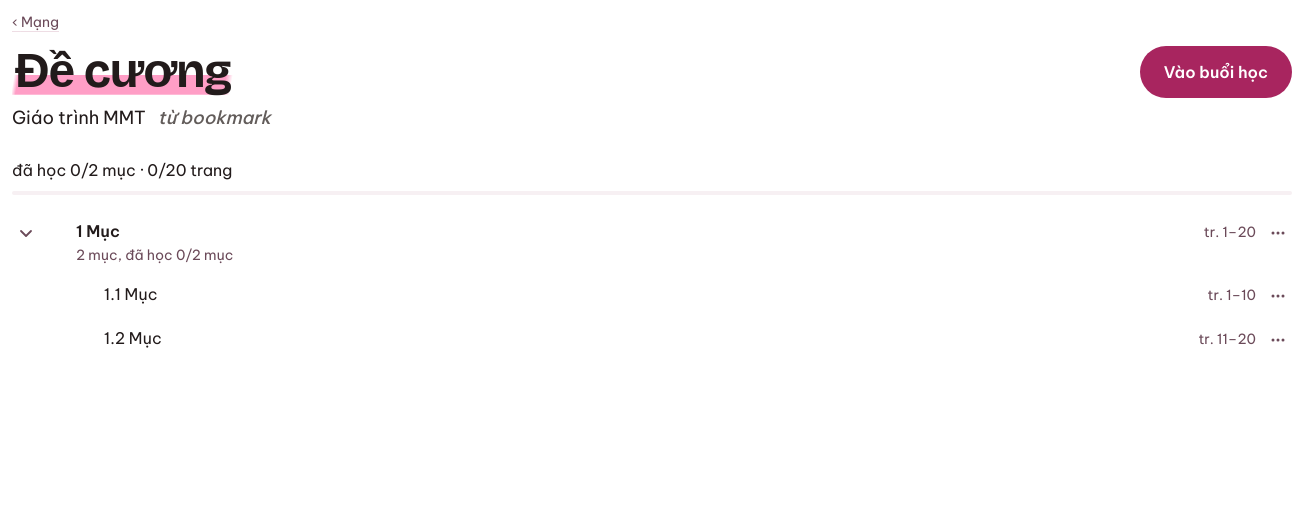
Test: SyllabusLive (US-13) › US-13 AC4: a range core-api refuses is undone with a visible message
Press Enter in the list item "1.1 Mục tr. 1–10", box [12, 274, 1292, 318]
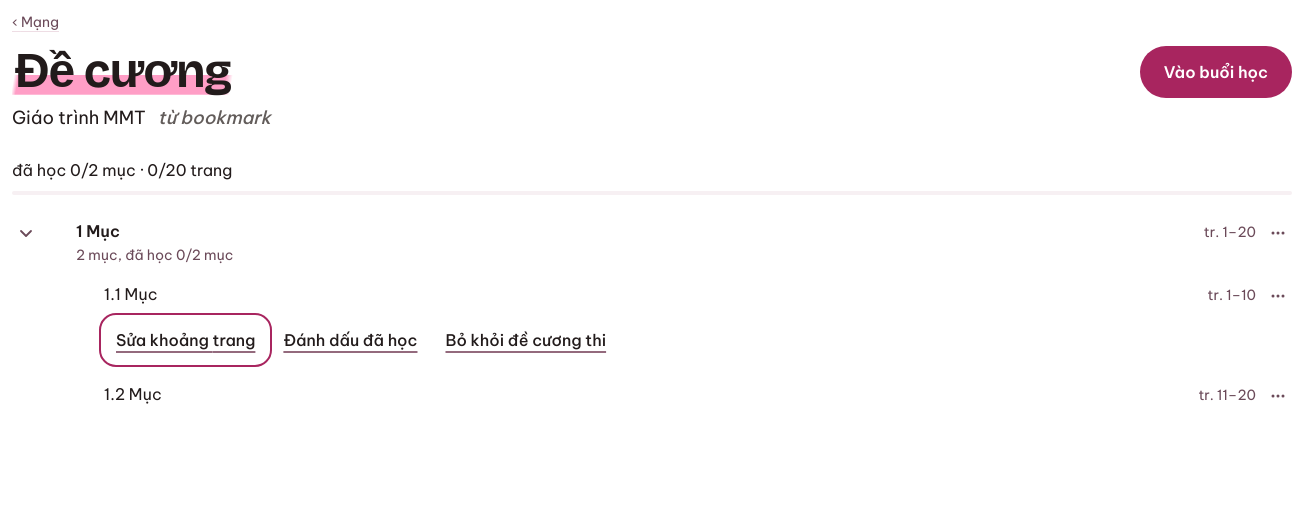
Click the button "Sửa khoảng trang" at [186, 340], box [104, 318, 267, 362]
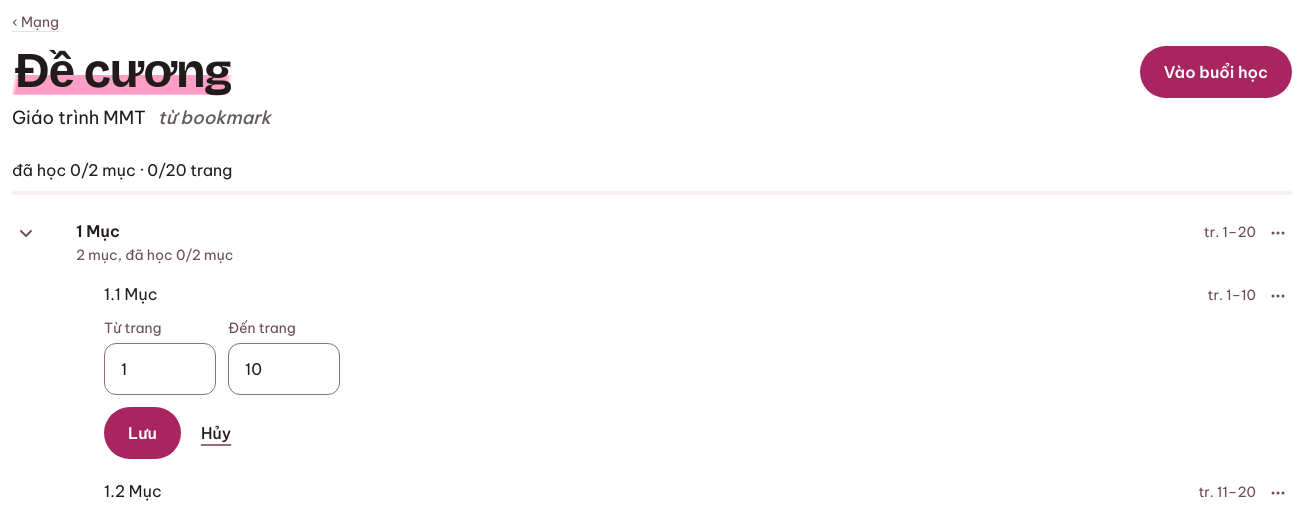
Replace the text in the field labelled "Từ trang" with "2" at [160, 369], box [104, 343, 216, 395]
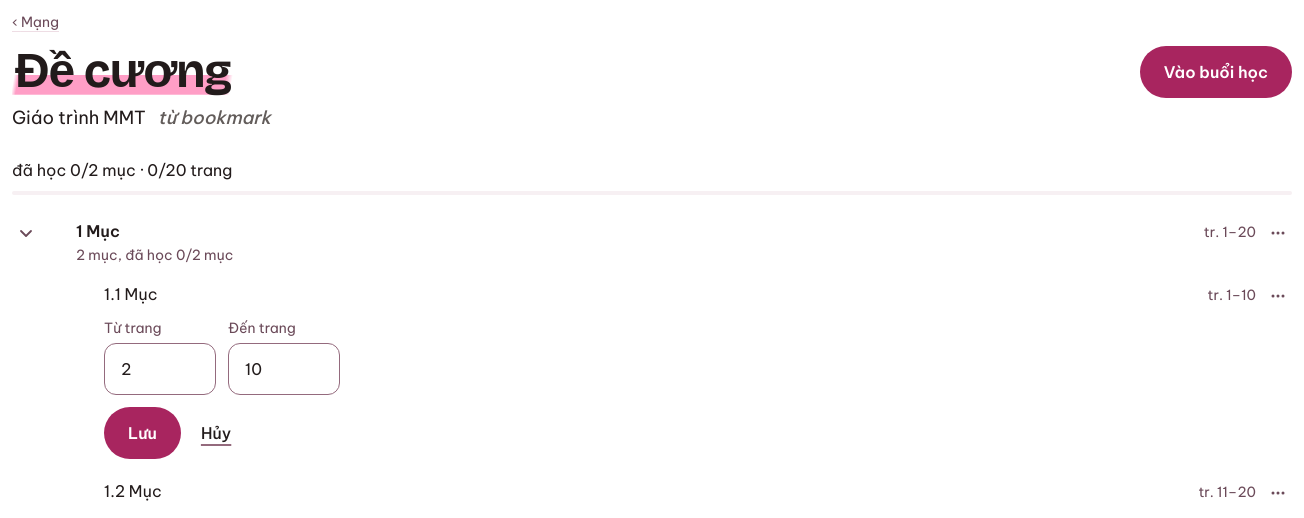
Replace the text in the field labelled "Đến trang" with "9" at [284, 369], box [228, 343, 340, 395]
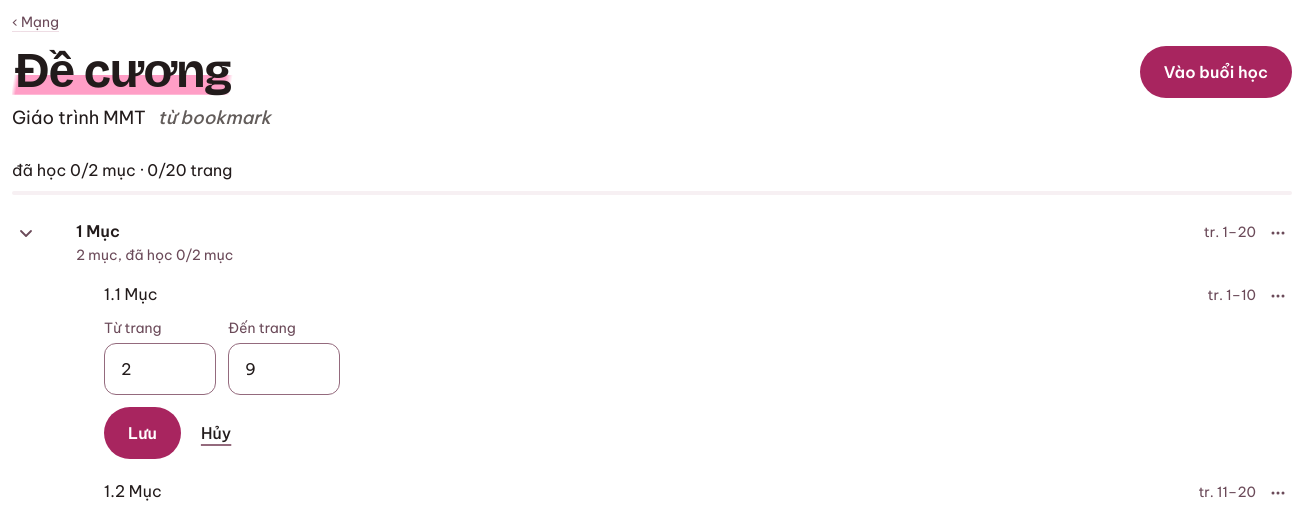
Click the button "Lưu" at [142, 433], box [104, 407, 181, 459]
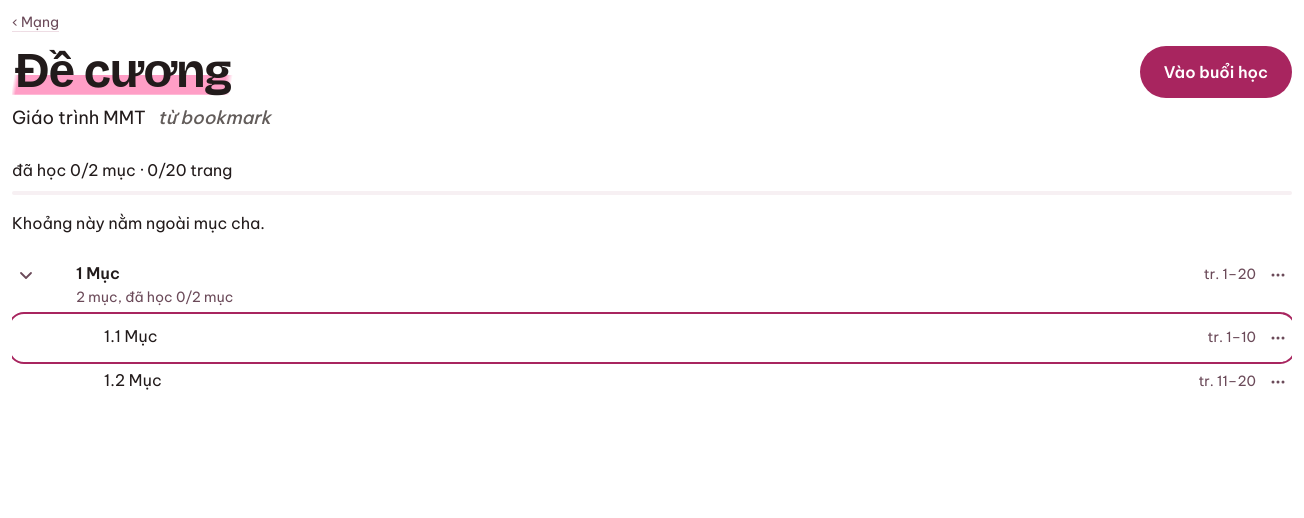
Expected: the list item "1.1 Mục tr. 1–10" is shown, [12, 316, 1292, 360]
Result: the message "Khoảng này nằm ngoài mục cha." is shown at [12, 213, 265, 233]
